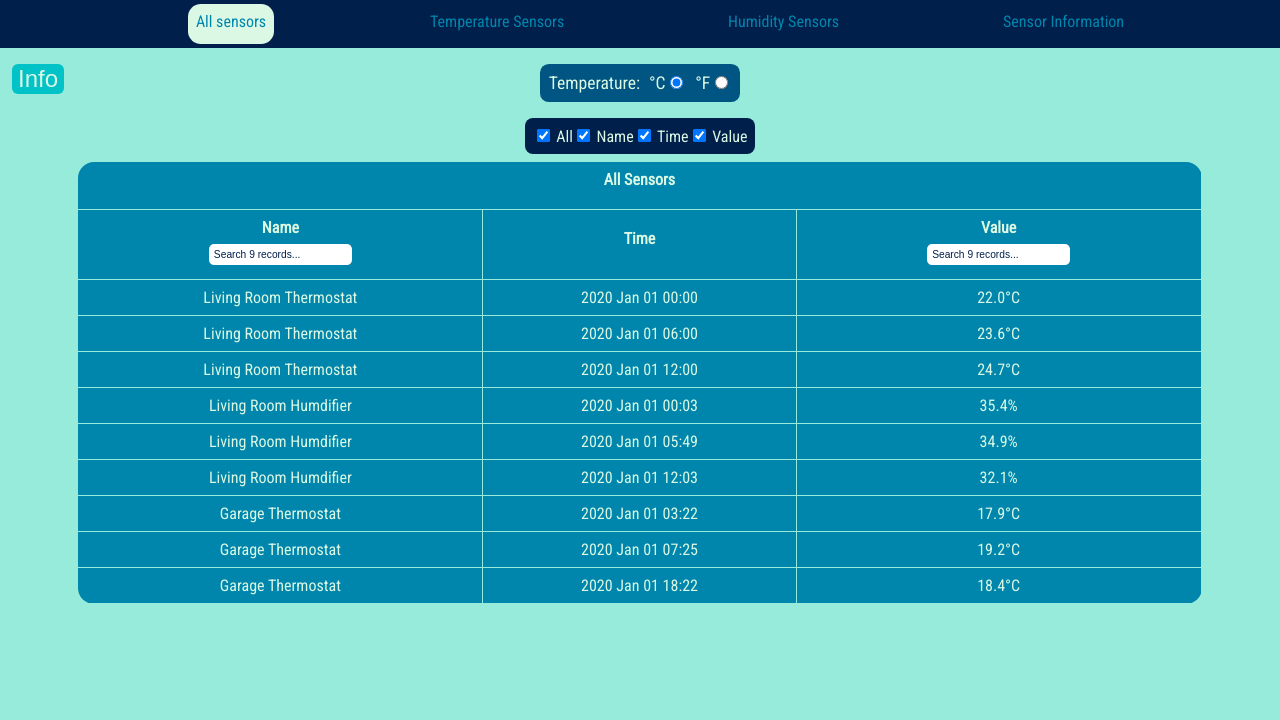
Test: Navigation › should visit Humidity sensors
Click the list item "Humidity Sensors" at (784, 22), box [728,12,839,31]
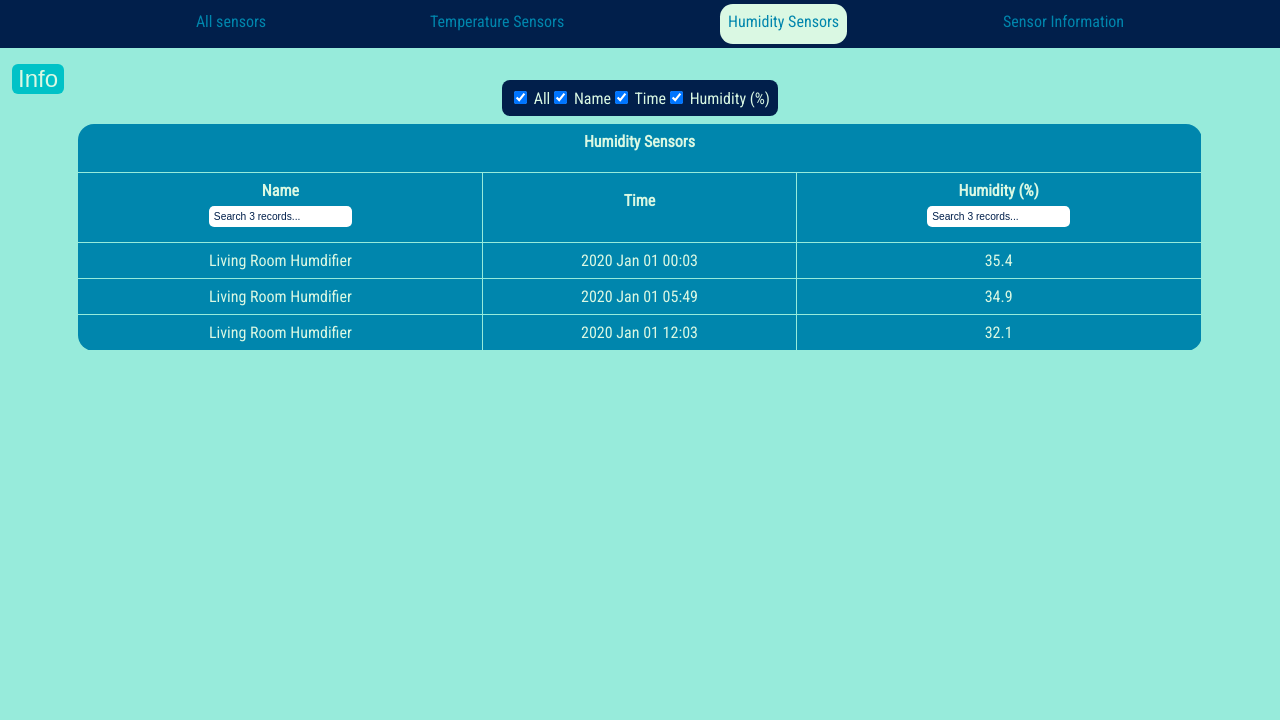
Check: the text "Humidity (%)" is shown, box [666,89,770,108]
